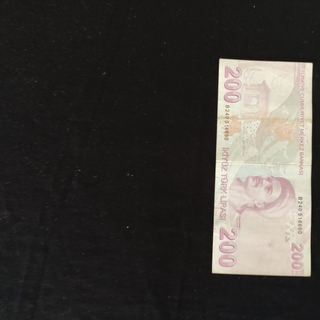200TLBack: (210, 56, 312, 277)
